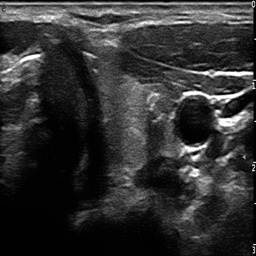mass: (176, 94, 214, 145)
